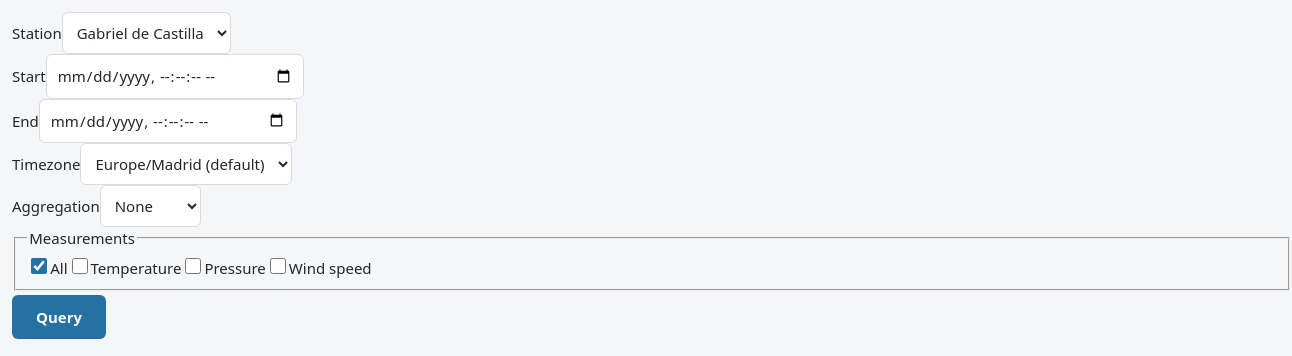
Test: QueryForm › "All" is checked by default and unchecks automatically when a single measurement is picked
Expected: the checkbox labelled "All" is checked, x1=31 y1=258 x2=47 y2=274
Click the checkbox labelled "Temperature".
click(80, 266)  # box x1=72 y1=258 x2=88 y2=274
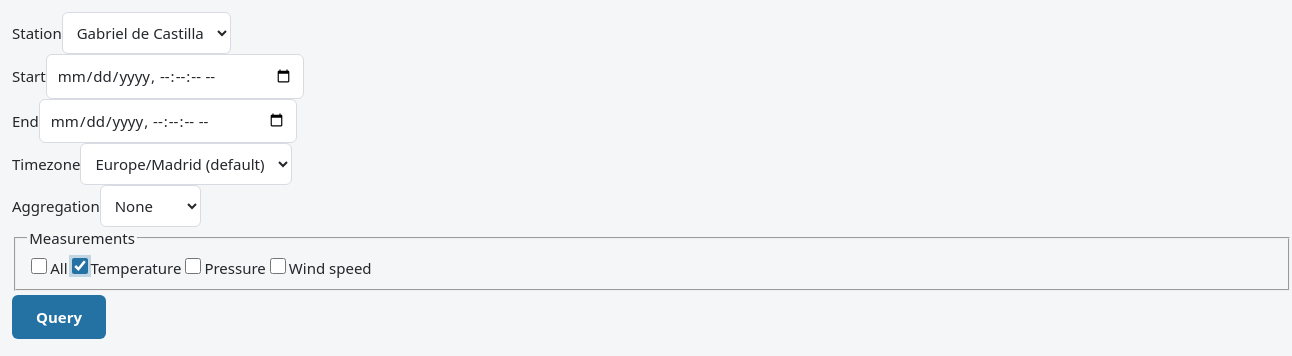
Expected: the checkbox labelled "Pressure" is not checked, x1=185 y1=258 x2=201 y2=274
Expected: the checkbox labelled "Temperature" is checked, x1=72 y1=258 x2=88 y2=274
Expected: the checkbox labelled "All" is not checked, x1=31 y1=258 x2=47 y2=274
